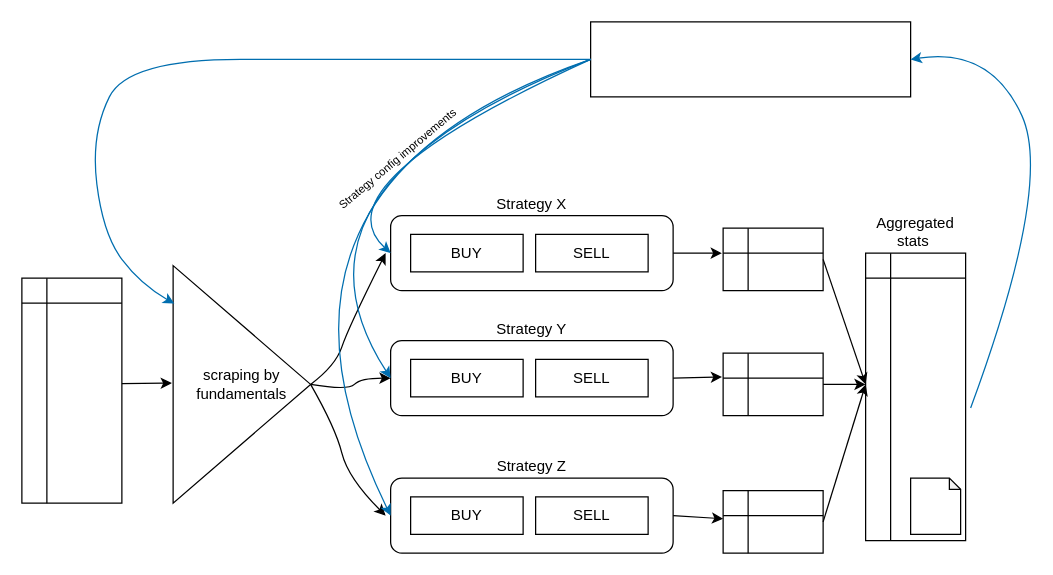
Image size: 1053x575. Some labels were removed from this diagram. The shapes that lost their labels are listed below. From the top down, each one's centre as x and y in pixels, then its label:
At point (750, 59): "LLM".
At point (772, 259): "Statistics X".
At point (71, 390): "Data provider (Yhaoo finance / Finviz)".
At point (772, 384): "Statictics Y".
At point (772, 521): "Statistics Z".
At point (935, 505): "reports".
